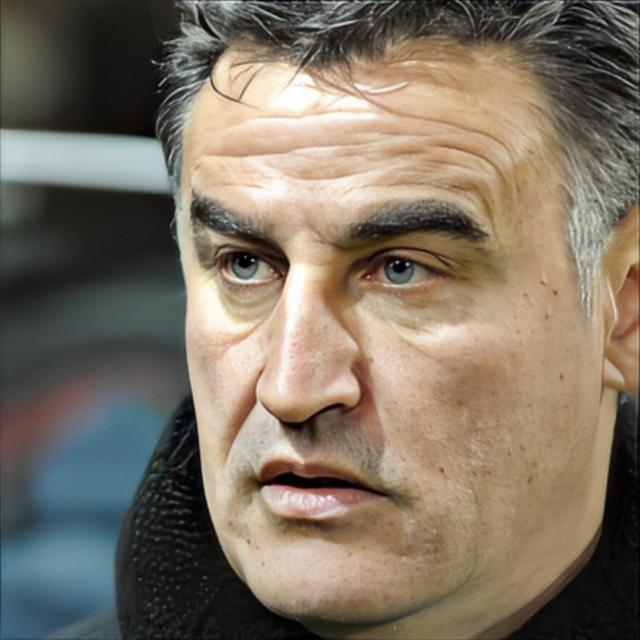anger: (180, 70, 596, 622)
